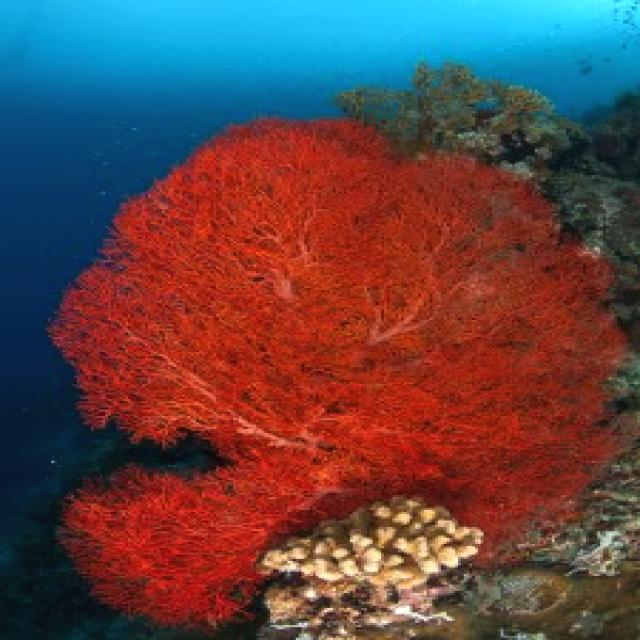Coral: (48, 114, 633, 640), (253, 491, 485, 624)
